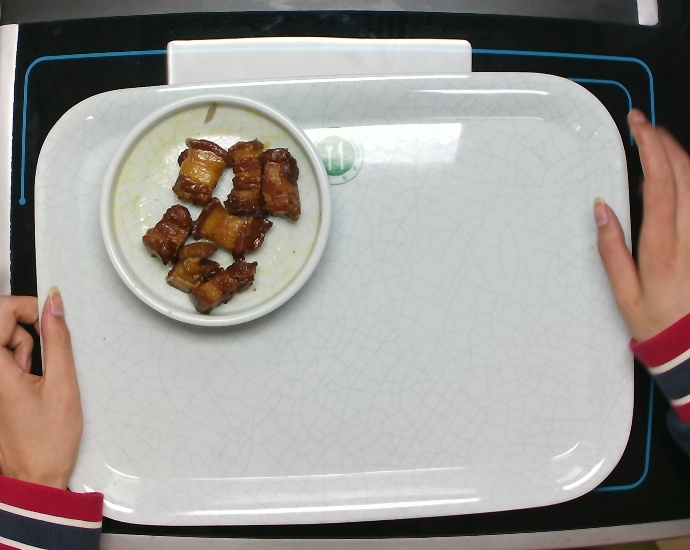JYsf-Xiao_Yuan_Pan: (96, 92, 334, 330)
